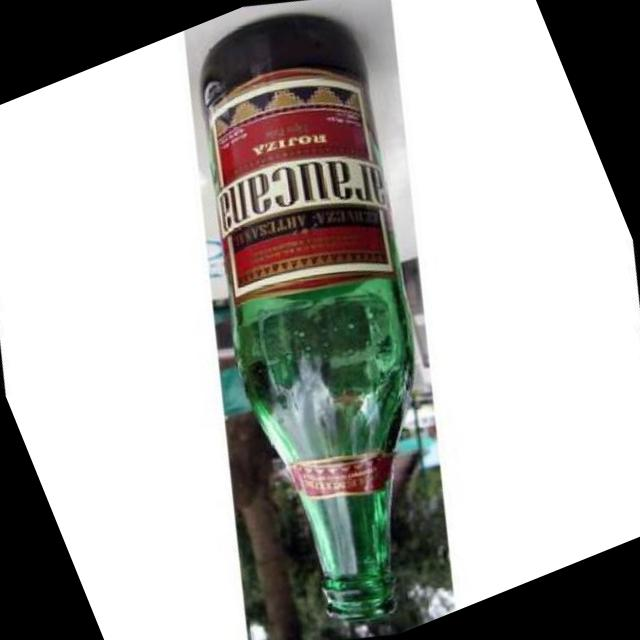BotolKaca: (118, 8, 557, 638)
